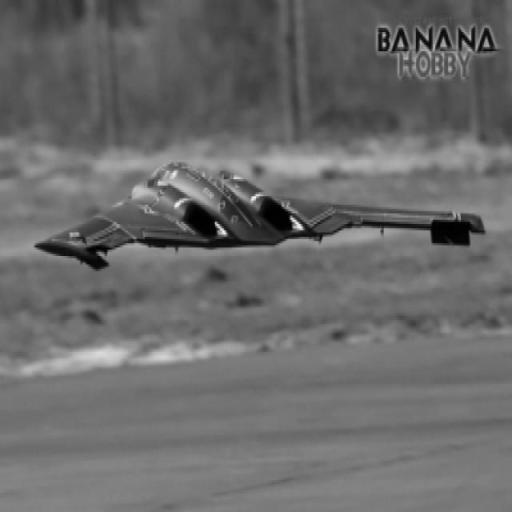uav: (36, 156, 488, 276)
